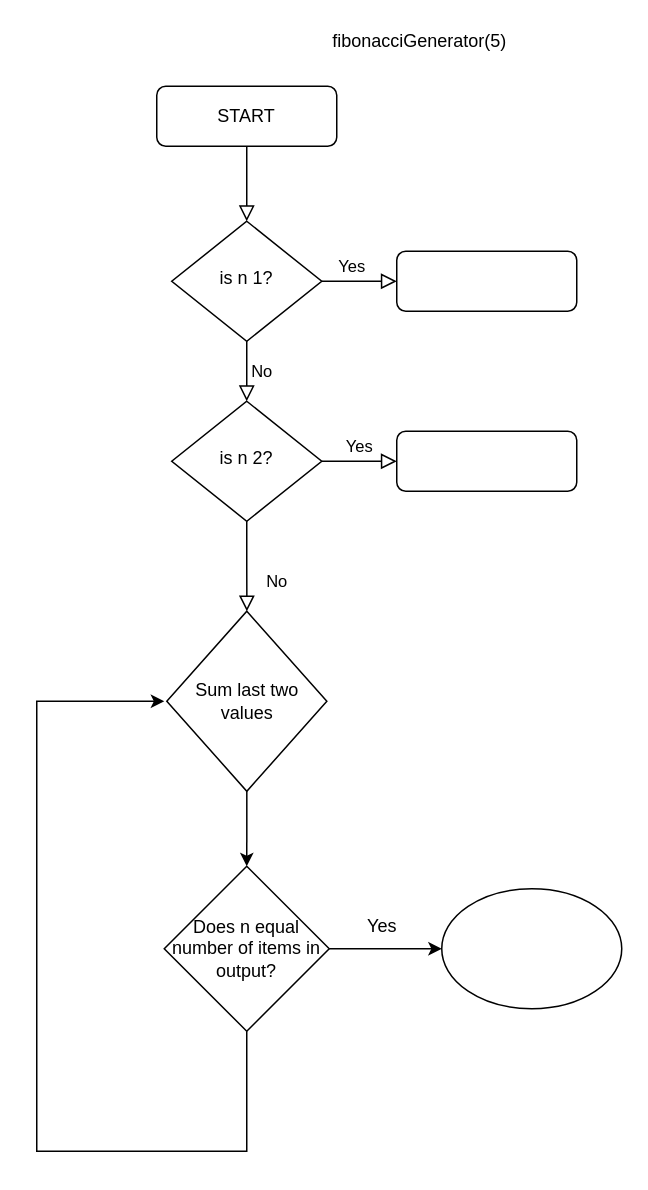
This 648x1190 diagram has some shape labels left out. Each missing label, with the centre of its shape:
Outpu [0,1]: the point at 486,460
Output(0): the point at 486,280
return output: the point at 531,948
